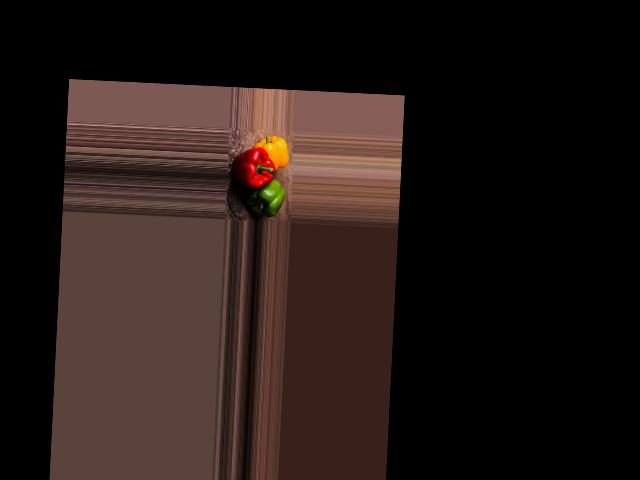bell_pepper: (253, 135, 291, 169)
